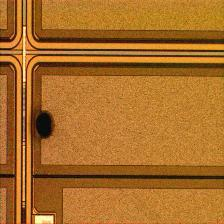PARTICLE: (29, 107, 65, 143)
